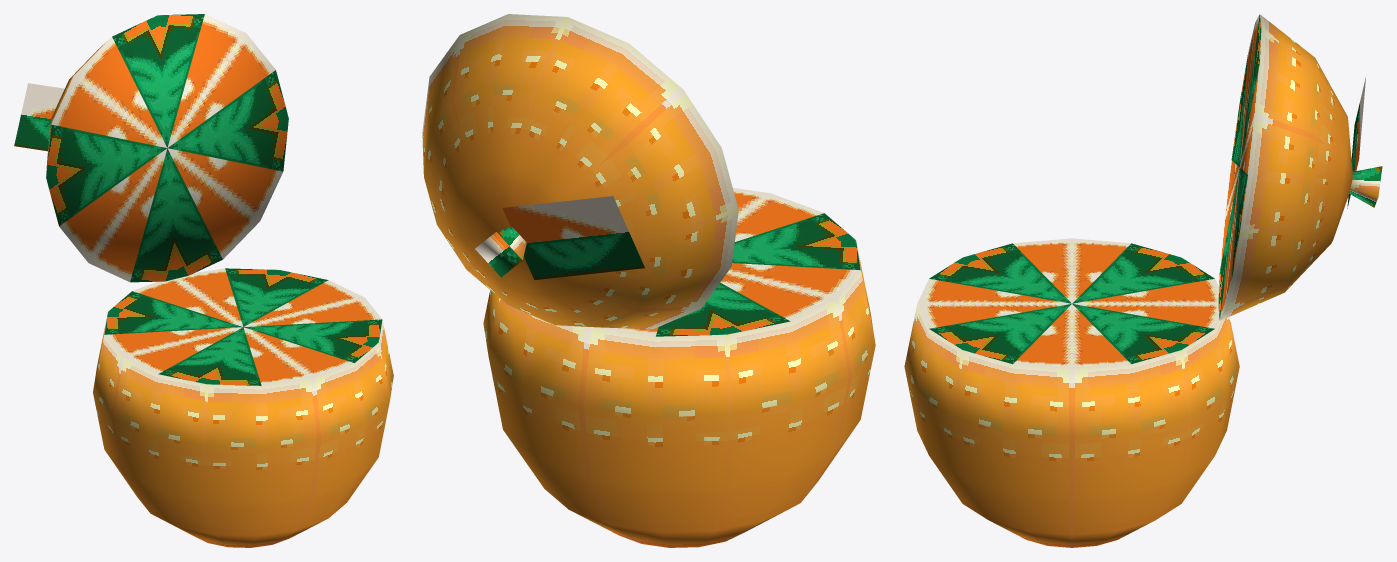
Rendered from rmk_ctr_chairS.dae.
3 views of the same model, side by side, from view 1: azimuth 30°, elevation 25°; view 2: azimuth 150°, elevation 25°; view 3: azimuth 270°, elevation 25° (orthographic). The views are drawn at different scales.
Parts seen in each view (by area): view 1: rmk_ctr_chairS; view 2: rmk_ctr_chairS; view 3: rmk_ctr_chairS.
Part boxes in pixels (bbox=[...]): rmk_ctr_chairS: bbox=[14, 14, 393, 547]; rmk_ctr_chairS: bbox=[422, 14, 875, 547]; rmk_ctr_chairS: bbox=[904, 14, 1382, 547].
Size of the model in its own units: 22.4 by 36.29 by 31.94.
Materials: 1 (1 with a texture image).
